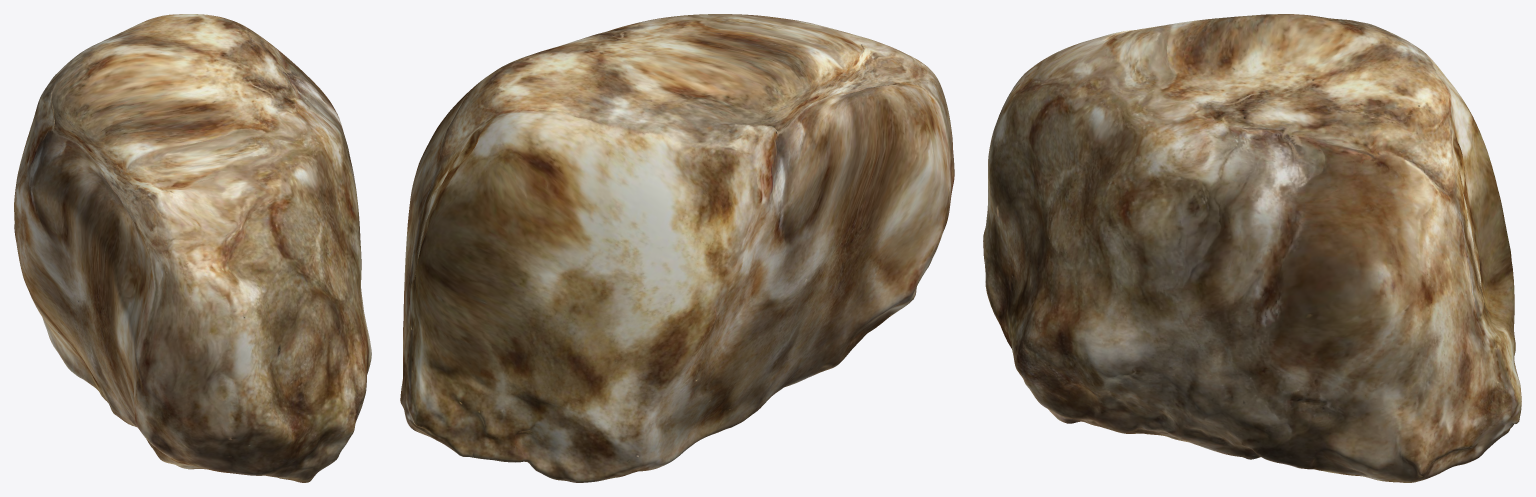
The model's file is LightRock2.fbx.
3 renders of one model, left to right at view 1: azimuth 30°, elevation 25°; view 2: azimuth 150°, elevation 25°; view 3: azimuth 270°, elevation 25°, orthographic. The views are drawn at different scales.
Parts seen in each view (by area): view 1: Mesh_0.004; view 2: Mesh_0.004; view 3: Mesh_0.004.
Part boxes in pixels (x1,y1,x2,y2): Mesh_0.004: (14, 14, 371, 482); Mesh_0.004: (400, 14, 954, 482); Mesh_0.004: (983, 14, 1521, 482).
Size of the model in its own units: 142 by 139 by 186.
Materials: 1 (1 with a texture image).
